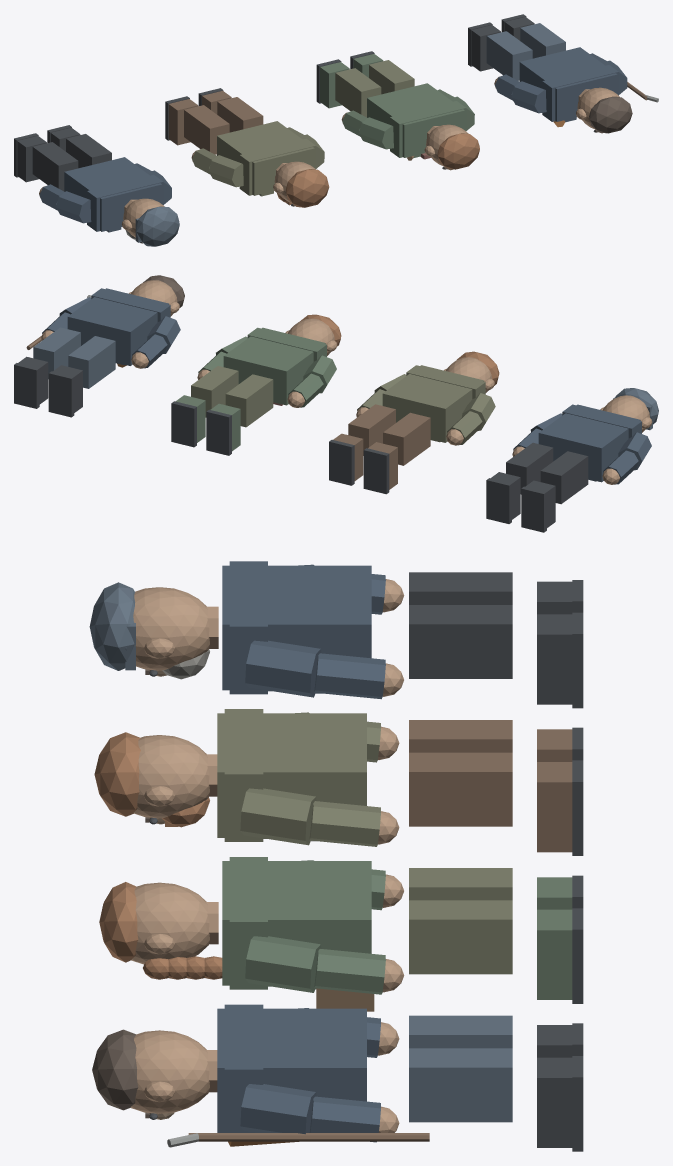
Rendered from all_four_keepers.glb.
3 views of the same model, one above another, from view 1: azimuth 30°, elevation 25°; view 2: azimuth 150°, elevation 25°; view 3: azimuth 270°, elevation 25° (orthographic). The views are drawn at different scales.
Parts seen in each view (by area): view 1: callum_jacket, mairi_jacket, ewan_jacket, hamish_jacket, ewan_trouser_leg, hamish_trouser_leg, callum_trouser_leg, mairi_trouser_leg, callum_wool_cap, hamish_hair, ewan_messy_hair, mairi_hair (+28 smaller); view 2: hamish_jacket, ewan_jacket, mairi_jacket, callum_jacket, callum_trouser_leg, mairi_trouser_leg, hamish_trouser_leg, ewan_trouser_leg, callum_trouser_leg_1, mairi_trouser_leg_1, ewan_trouser_leg_1, hamish_trouser_leg_1 (+34 smaller); view 3: ewan_jacket, callum_jacket, hamish_jacket, mairi_jacket, hamish_trouser_leg_1, mairi_trouser_leg_1, ewan_trouser_leg_1, callum_trouser_leg_1, ewan_head, callum_head, mairi_head, hamish_head (+34 smaller).
Boxes of the visible parts, bbox=[...] form: callum_jacket: bbox=[64, 157, 162, 231]; mairi_jacket: bbox=[367, 83, 464, 157]; ewan_jacket: bbox=[519, 47, 617, 121]; hamish_jacket: bbox=[217, 121, 314, 195]; ewan_trouser_leg: bbox=[486, 31, 532, 80]; hamish_trouser_leg: bbox=[184, 105, 229, 154]; callum_trouser_leg: bbox=[32, 142, 78, 191]; mairi_trouser_leg: bbox=[335, 68, 381, 117]; callum_wool_cap: bbox=[136, 206, 179, 246]; hamish_hair: bbox=[285, 169, 329, 207]; ewan_messy_hair: bbox=[589, 96, 632, 133]; mairi_hair: bbox=[437, 133, 479, 169]; hamish_jacket: bbox=[382, 365, 484, 442]; ewan_jacket: bbox=[67, 288, 169, 365]; mairi_jacket: bbox=[223, 327, 325, 405]; callum_jacket: bbox=[538, 404, 640, 482]; callum_trouser_leg: bbox=[540, 451, 588, 504]; mairi_trouser_leg: bbox=[225, 374, 273, 427]; hamish_trouser_leg: bbox=[383, 412, 430, 465]; ewan_trouser_leg: bbox=[68, 336, 115, 388]; callum_trouser_leg_1: bbox=[506, 442, 553, 494]; mairi_trouser_leg_1: bbox=[191, 366, 238, 417]; ewan_trouser_leg_1: bbox=[33, 327, 80, 378]; hamish_trouser_leg_1: bbox=[348, 404, 395, 455]; ewan_jacket: bbox=[217, 1008, 366, 1132]; callum_jacket: bbox=[222, 565, 371, 690]; hamish_jacket: bbox=[217, 713, 366, 837]; mairi_jacket: bbox=[222, 861, 371, 985]; hamish_trouser_leg_1: bbox=[409, 752, 512, 826]; mairi_trouser_leg_1: bbox=[409, 900, 512, 974]; ewan_trouser_leg_1: bbox=[409, 1048, 512, 1122]; callum_trouser_leg_1: bbox=[409, 605, 512, 678]; ewan_head: bbox=[131, 1030, 209, 1113]; callum_head: bbox=[133, 587, 209, 670]; mairi_head: bbox=[131, 882, 209, 964]; hamish_head: bbox=[134, 735, 209, 818].
Size of the model in its own units: 5.44 by 0.4575 by 2.05.
